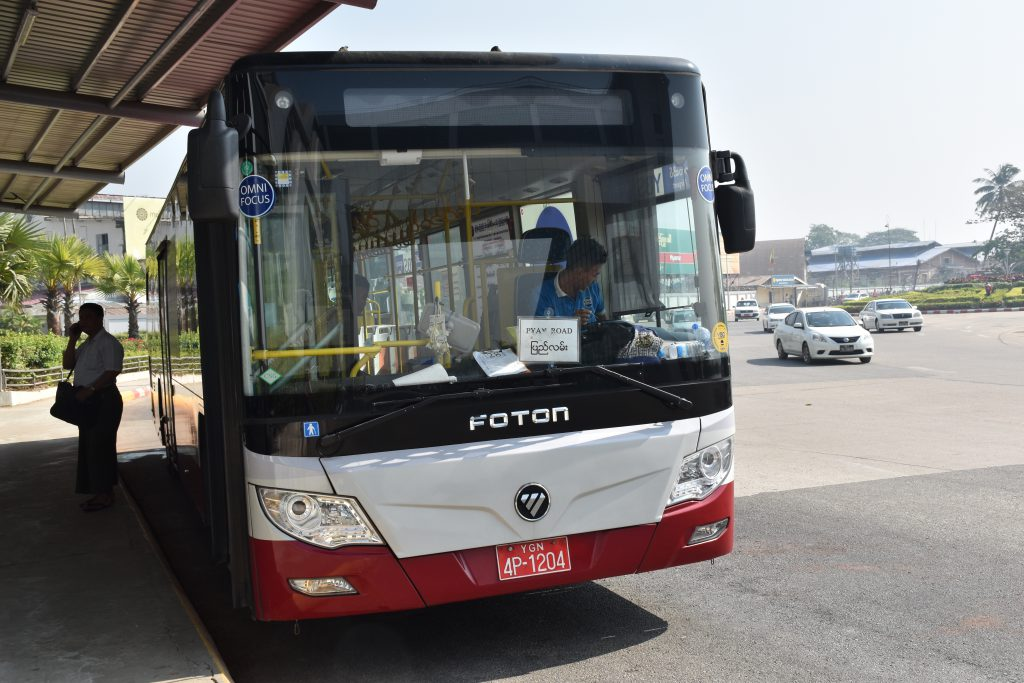bus: (137, 47, 745, 624)
